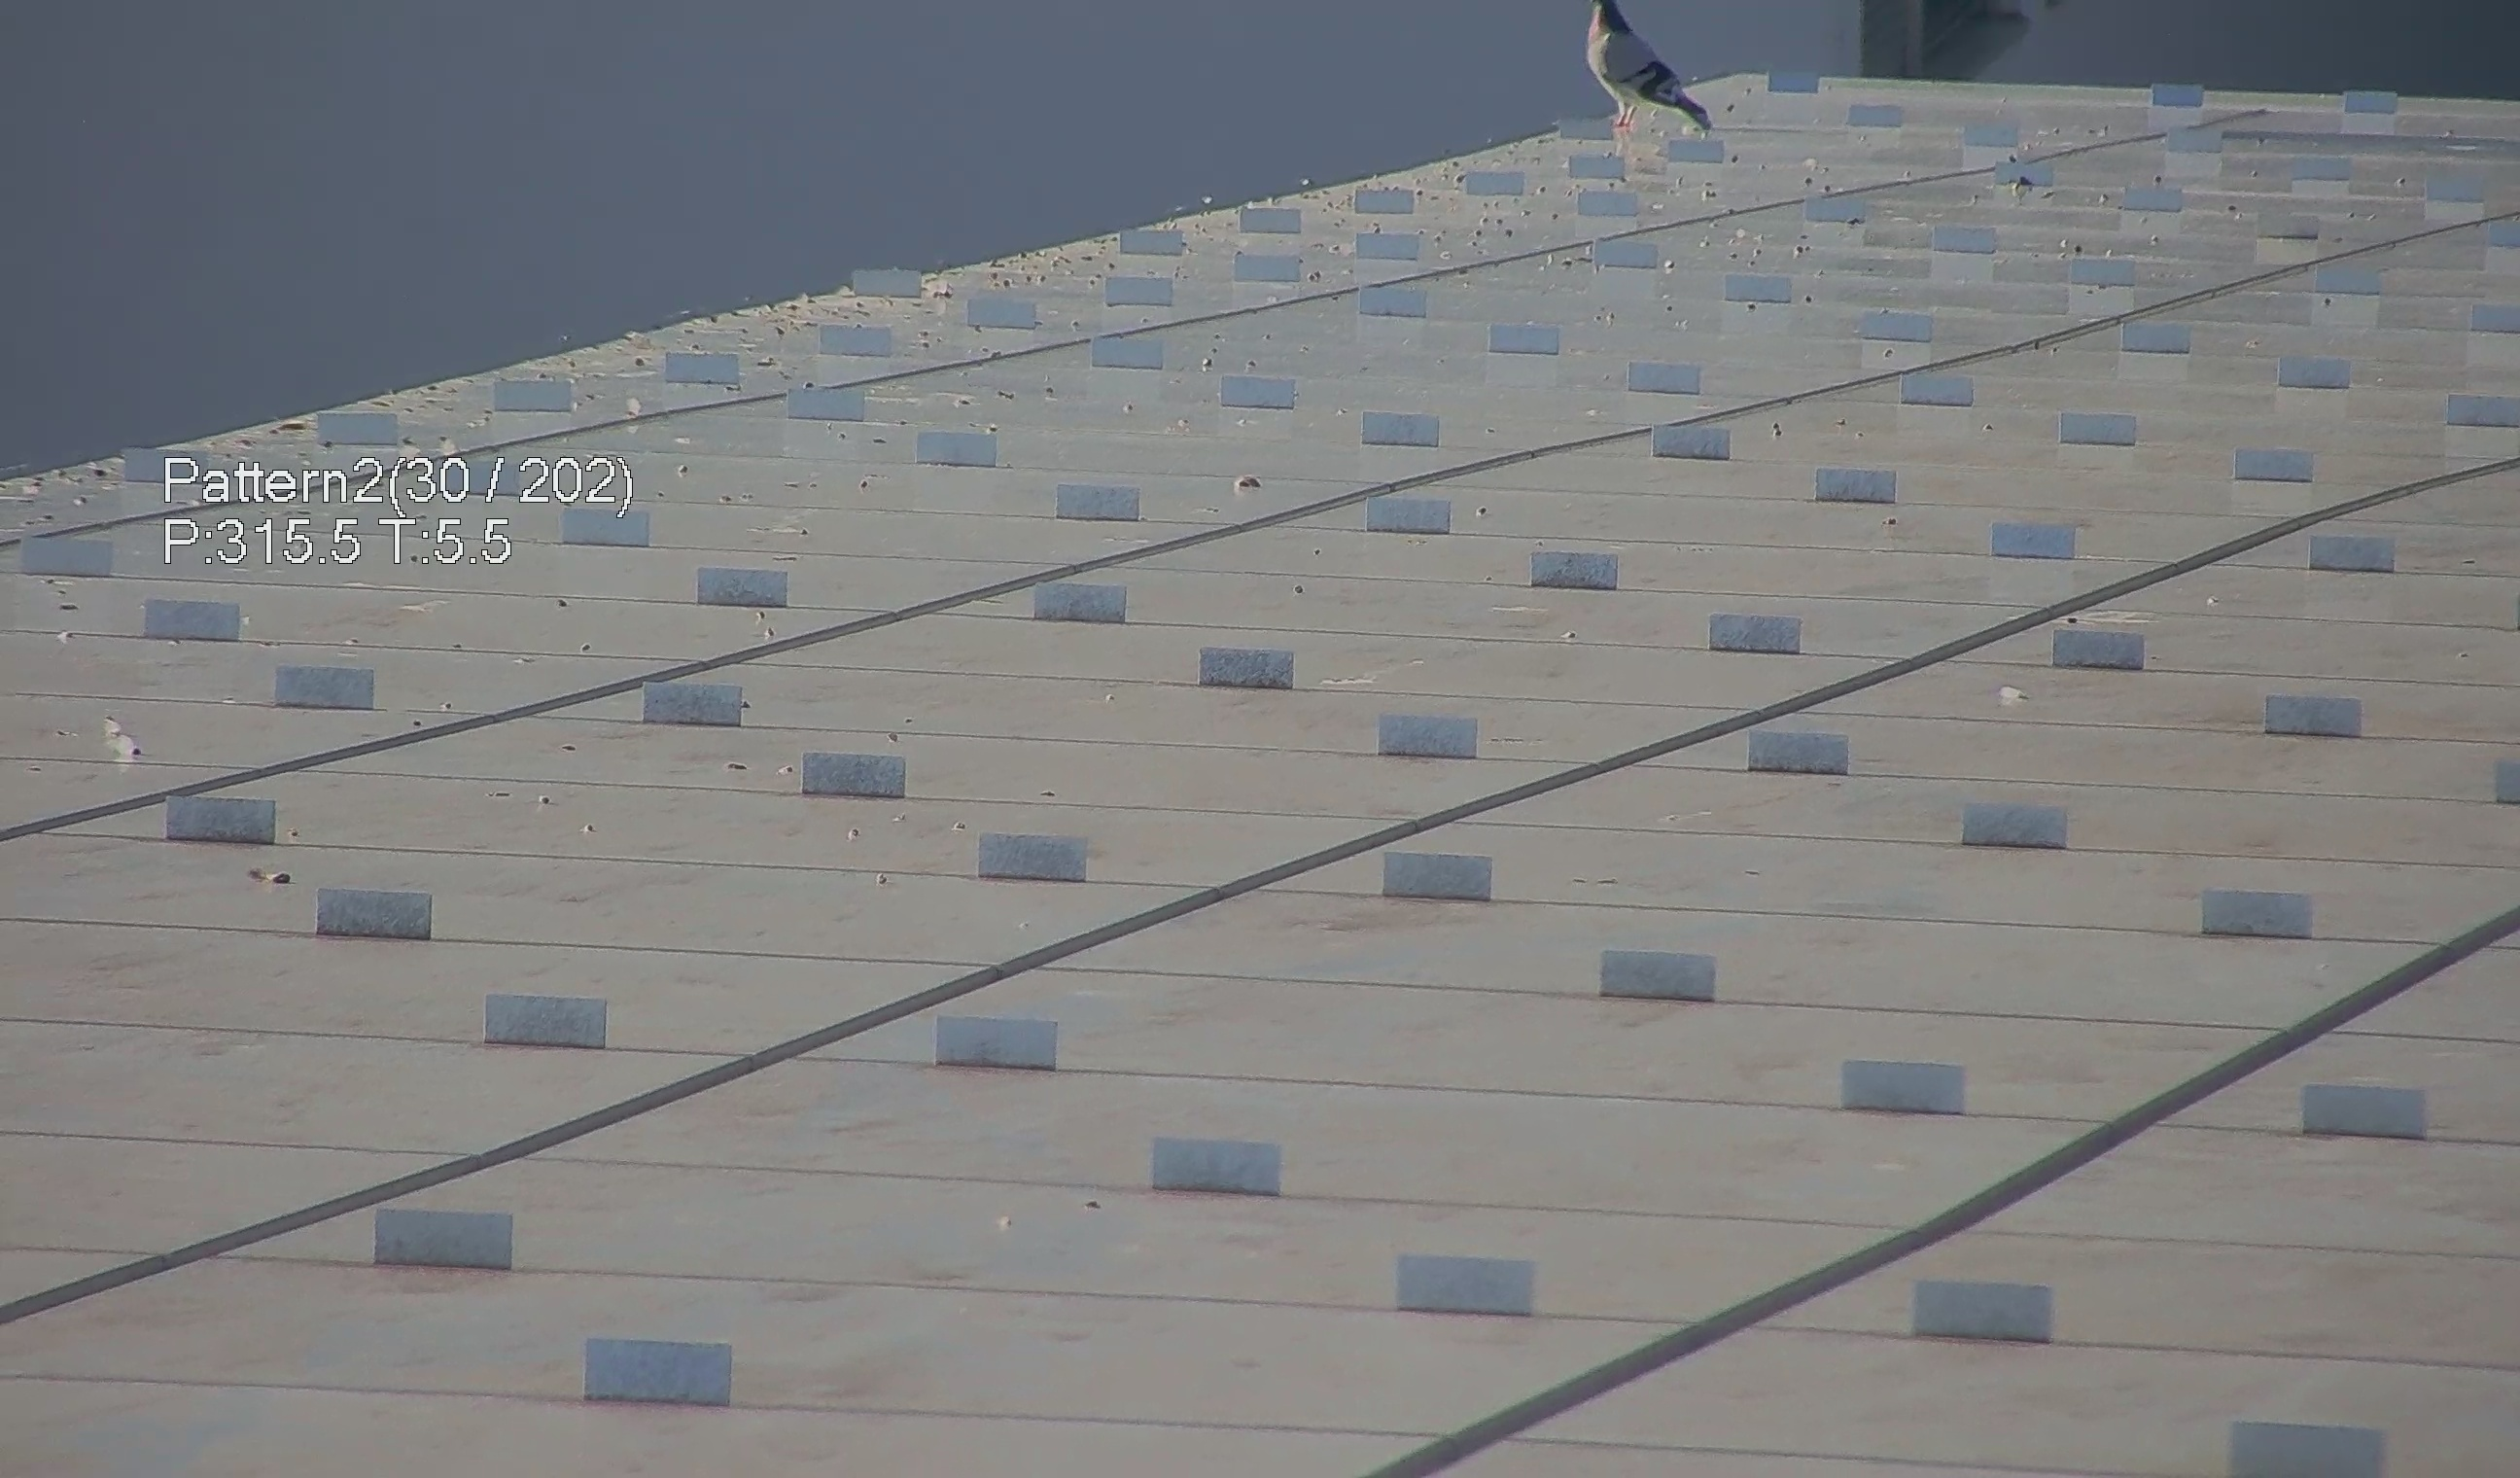Pigeon: (1584, 0, 1736, 150)
